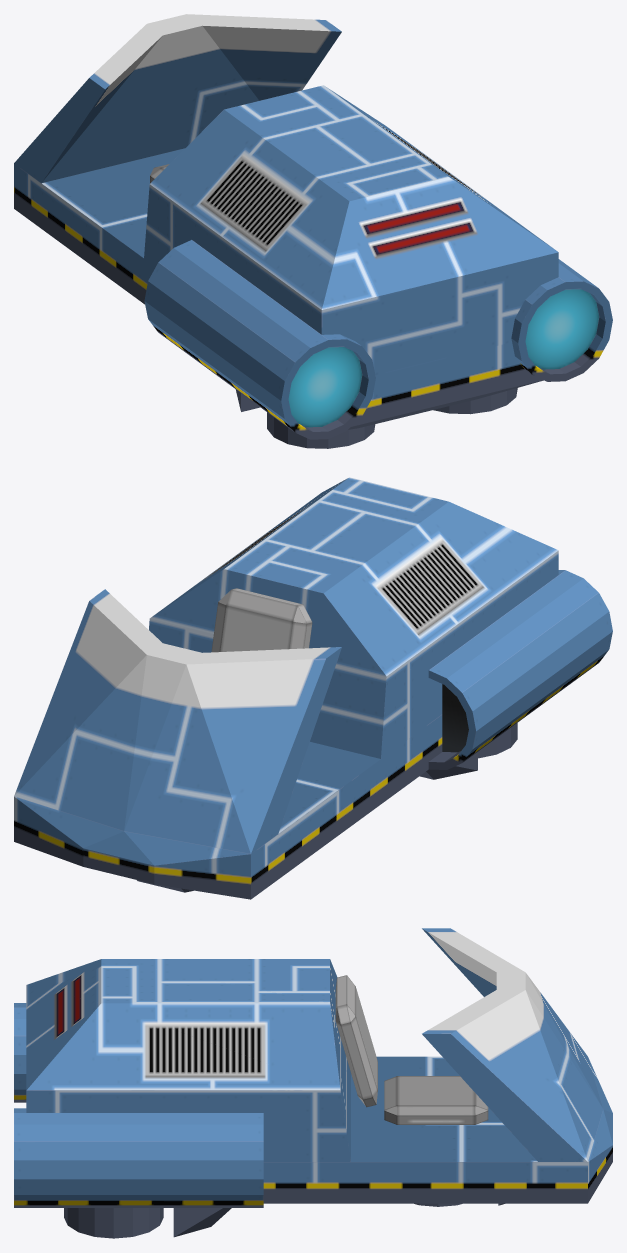
File: hovercraft.obj
3 views of the same model, one above another, from view 1: azimuth 30°, elevation 25°; view 2: azimuth 150°, elevation 25°; view 3: azimuth 270°, elevation 25° (orthographic). The views are drawn at different scales.
Bounding box in the file's own units: 2.1 × 1.36 × 3.6.
